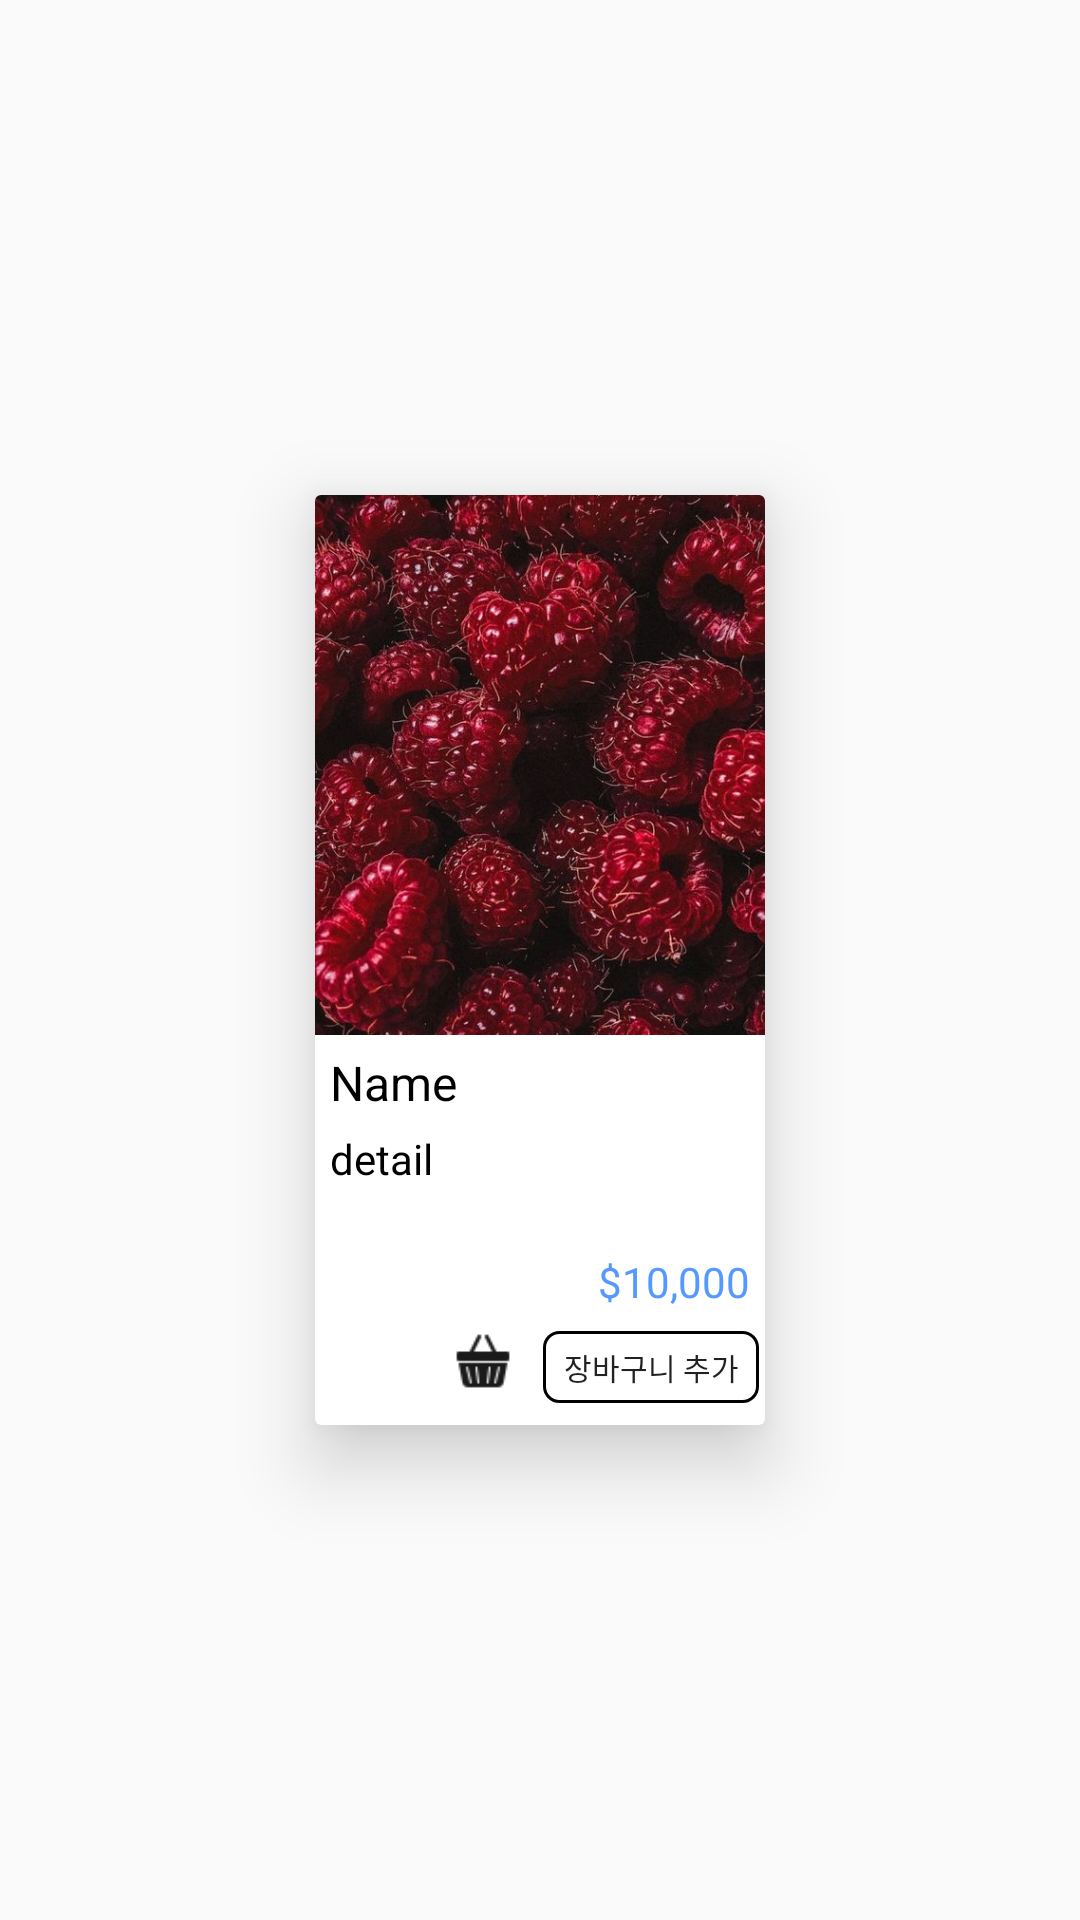

Named icons in this screenshot (1080w x 1920h) and their centers, (x=x, y=y):
basket: (x=483, y=1361)
